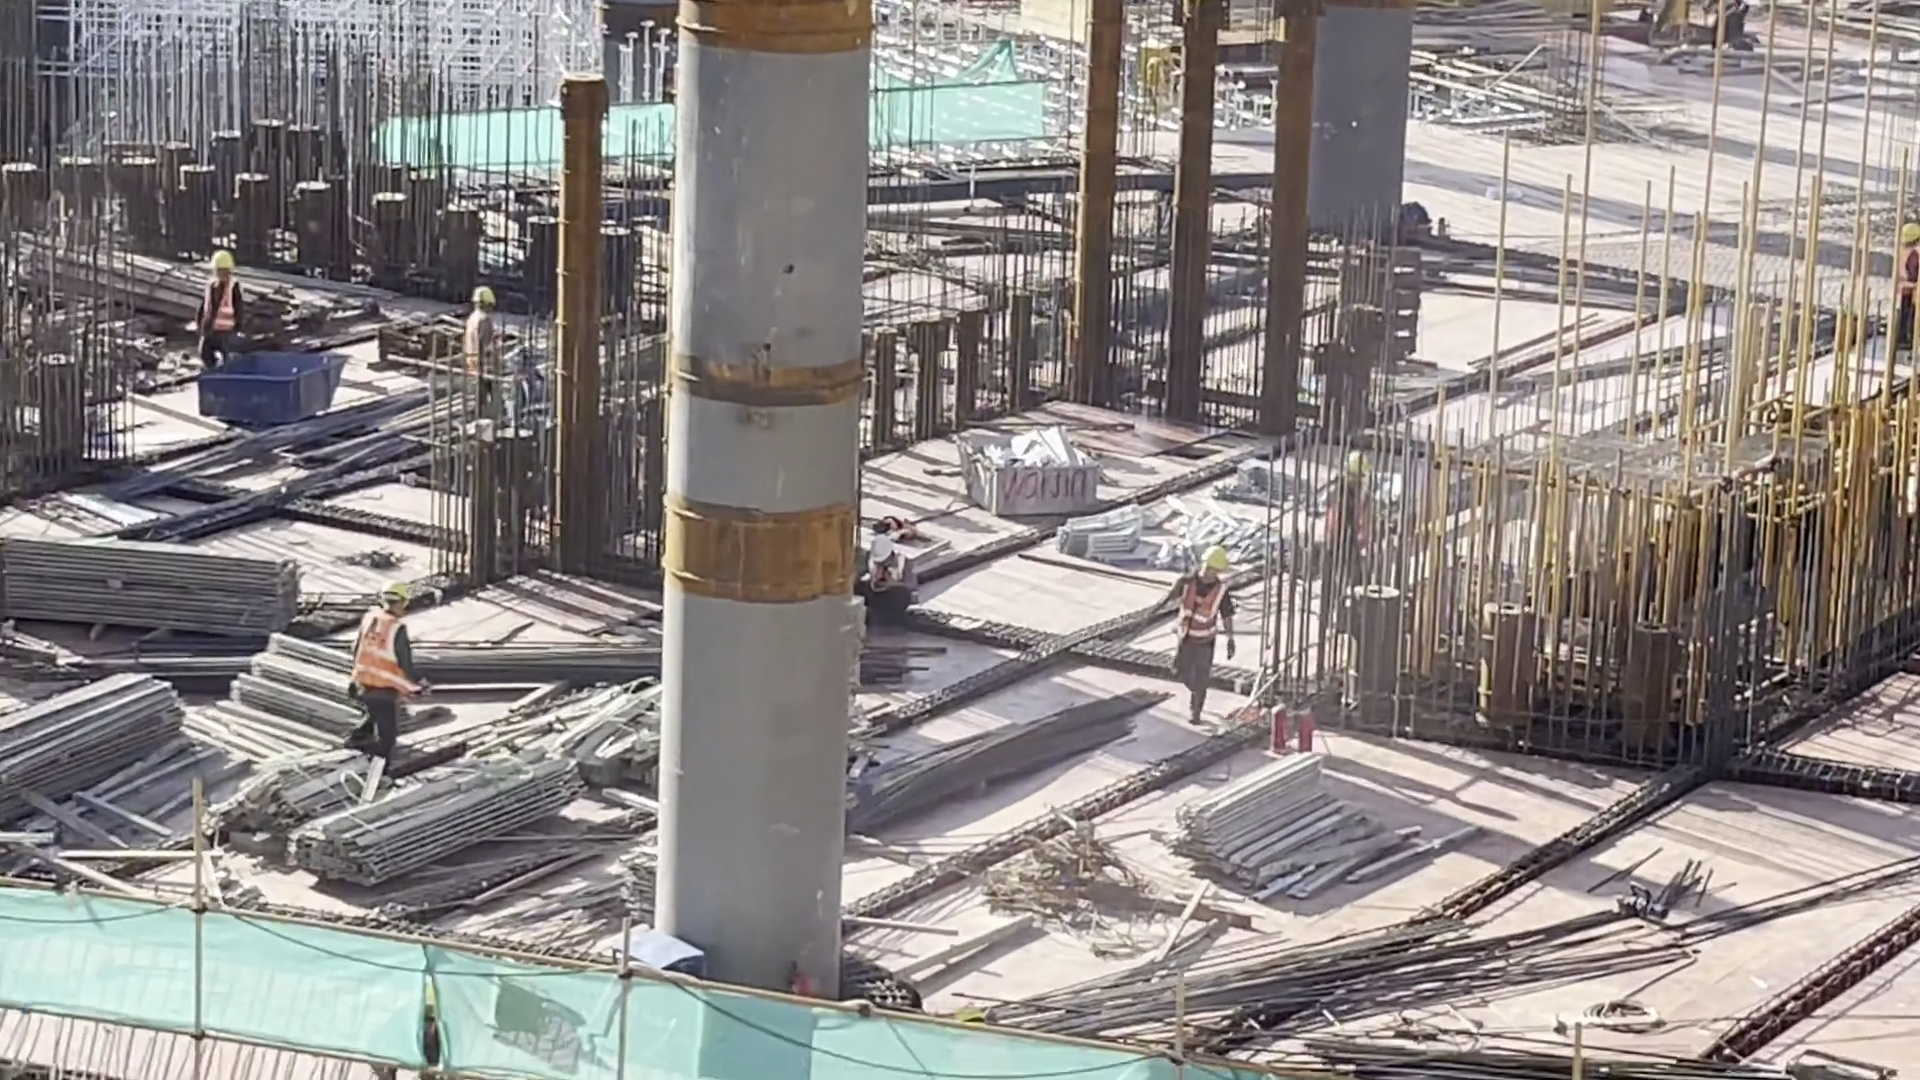helmet: (370, 576, 421, 617), (1192, 531, 1234, 576), (859, 524, 904, 564), (212, 249, 238, 272), (470, 280, 495, 301)
hopper: (952, 417, 1111, 515), (197, 339, 347, 434)
person: (348, 578, 432, 756), (1175, 538, 1244, 713), (449, 280, 499, 413), (188, 243, 238, 372), (856, 526, 921, 617)
vest: (351, 615, 406, 698), (1175, 579, 1225, 639), (196, 280, 234, 335), (459, 313, 495, 368)
wood: (1, 512, 311, 678), (301, 730, 569, 887), (1174, 752, 1388, 901), (1, 664, 185, 837)
